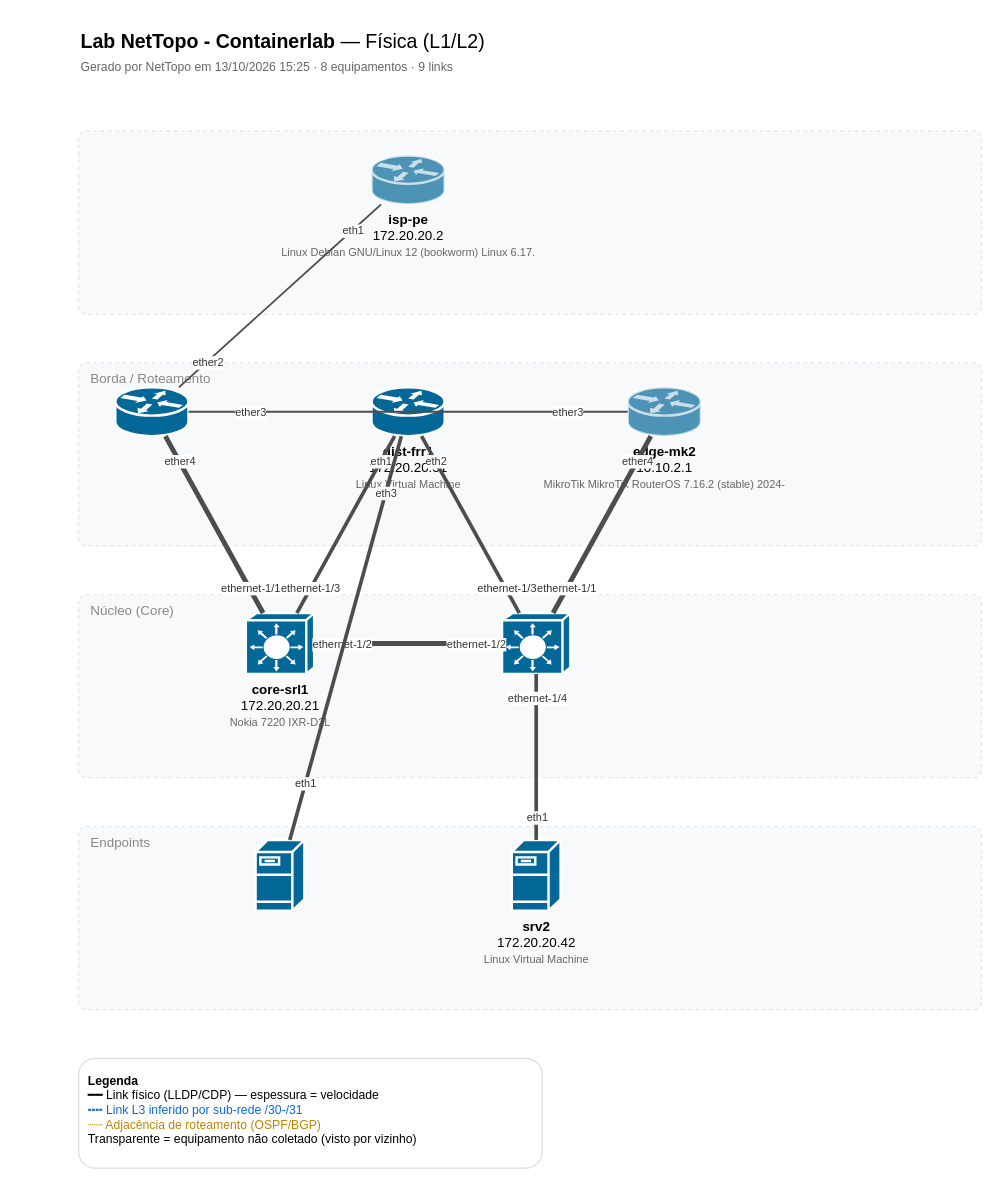
This 1003x1190 diagram has some shape labels left out. Here are the shapes that lost their labels. From the top down, the box of each, then its label:
(77, 130, 981, 314): Externo / Operadoras
(113, 386, 189, 437): edge-mk1 172.20.20.11 MikroTik CHR QEMU Standard PC (i440FX + PIIX, 19
(500, 611, 571, 675): core-srl2 172.20.20.22 Nokia 7220 IXR-D2L
(254, 838, 305, 911): srv1 172.20.20.41 Linux Virtual Machine
